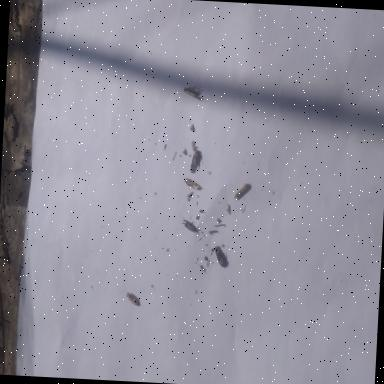pbw: (180, 216, 202, 234), (212, 244, 226, 266), (183, 84, 202, 100), (233, 181, 249, 199), (182, 176, 201, 189), (188, 148, 198, 172), (125, 292, 140, 306)
